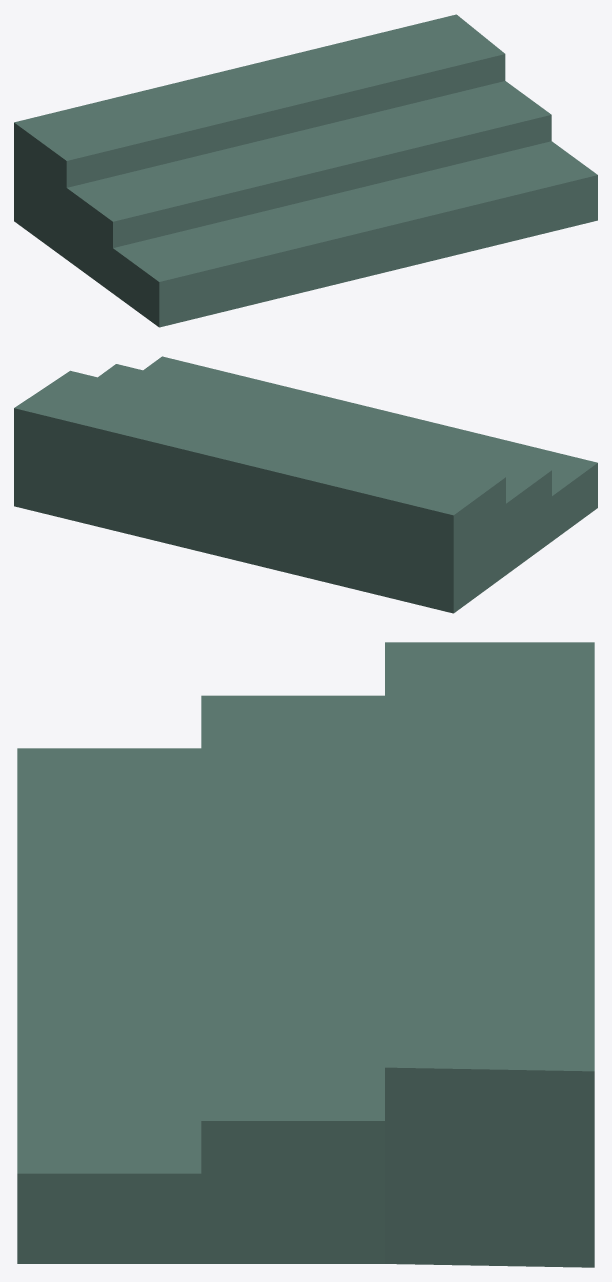
The model's file is Staircase.glb.
3 renders of one model, top to bottom at view 1: azimuth 30°, elevation 25°; view 2: azimuth 150°, elevation 25°; view 3: azimuth 270°, elevation 25°, orthographic. The views are drawn at different scales.
Parts seen in each view (by area): view 1: Staircase; view 2: Staircase; view 3: Staircase.
Boxes of the visible parts, bbox=[...] form: Staircase: bbox=[14, 14, 597, 327]; Staircase: bbox=[14, 356, 597, 613]; Staircase: bbox=[17, 642, 594, 1267].
Size of the model in its own units: 0.8455 by 0.1804 by 0.4807.
1 material, 1 textured.
